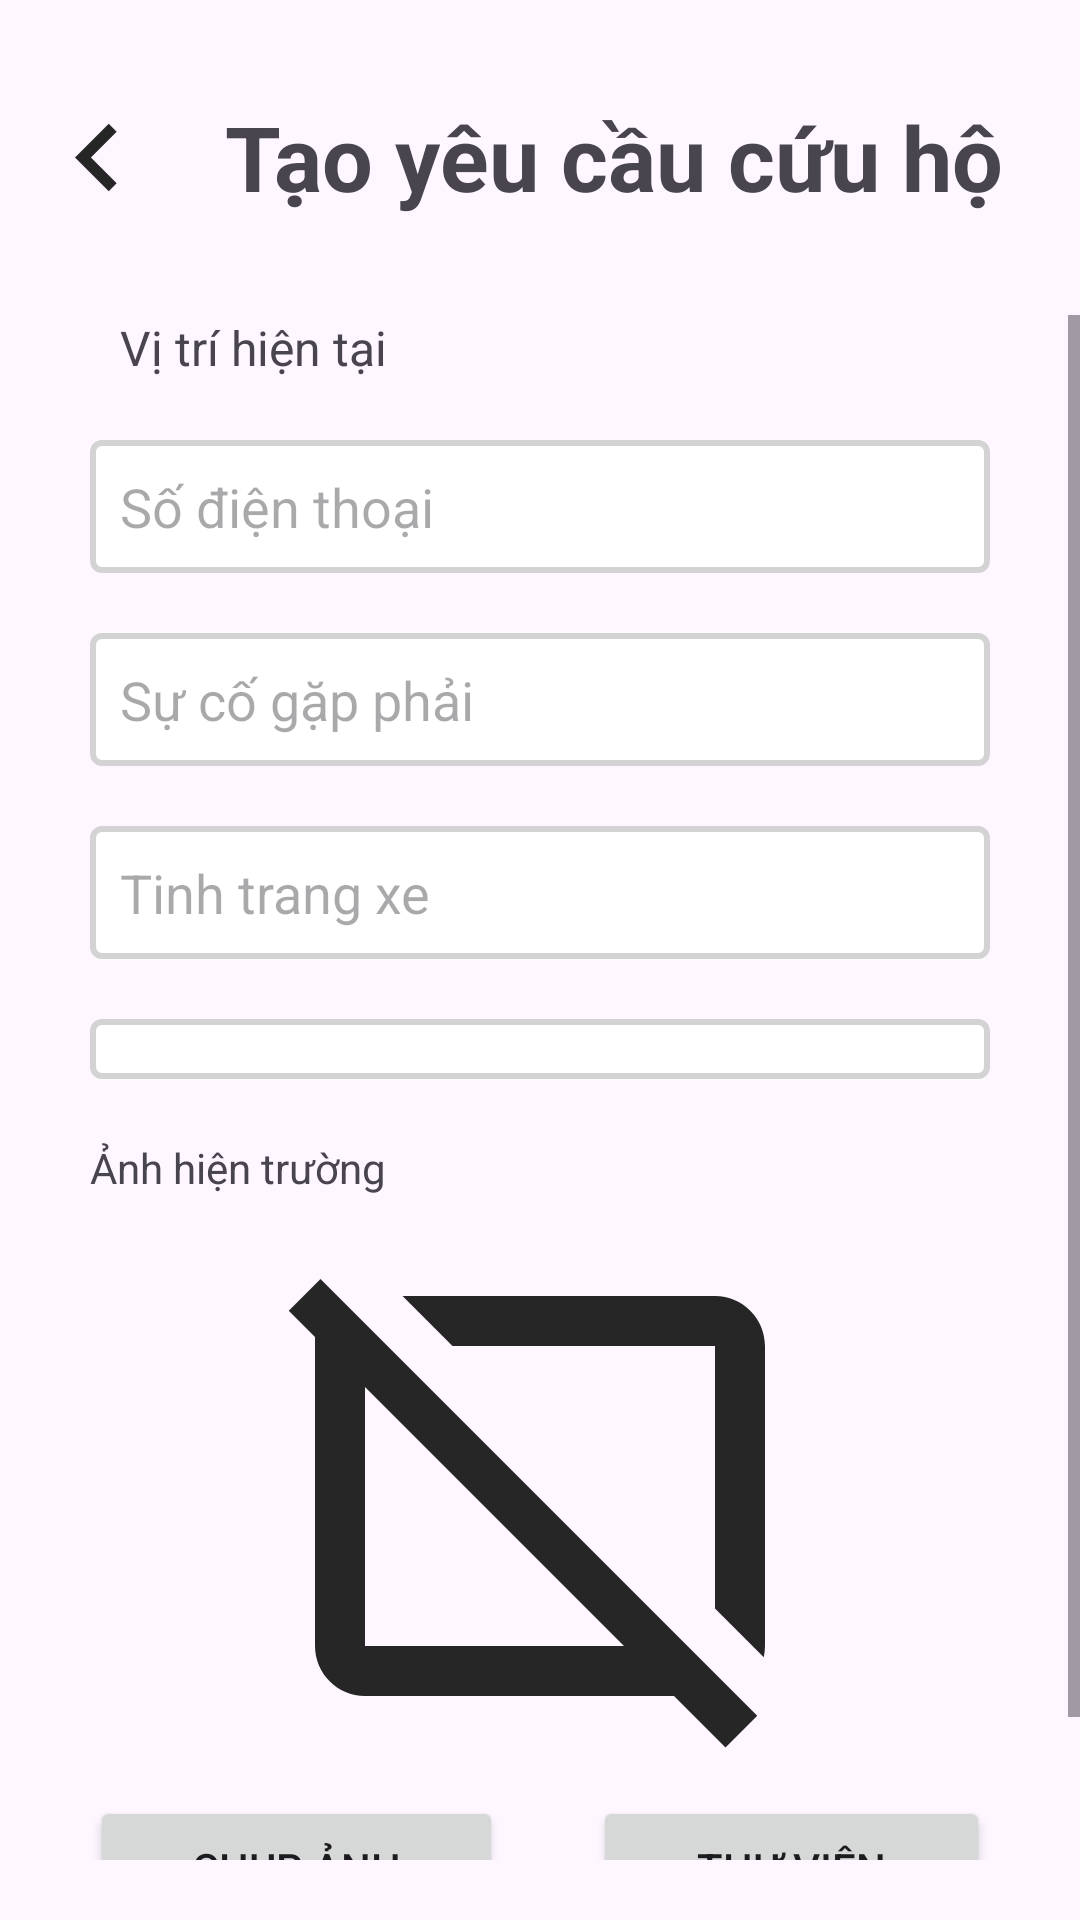

Where icons sit on this 1080 x 1920 app screen, as detection(x1, y1, x2, y2):
goback: detection(75, 124, 117, 191)
